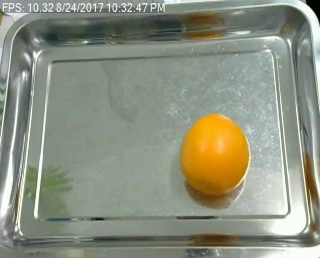Orange: (181, 114, 250, 194)
